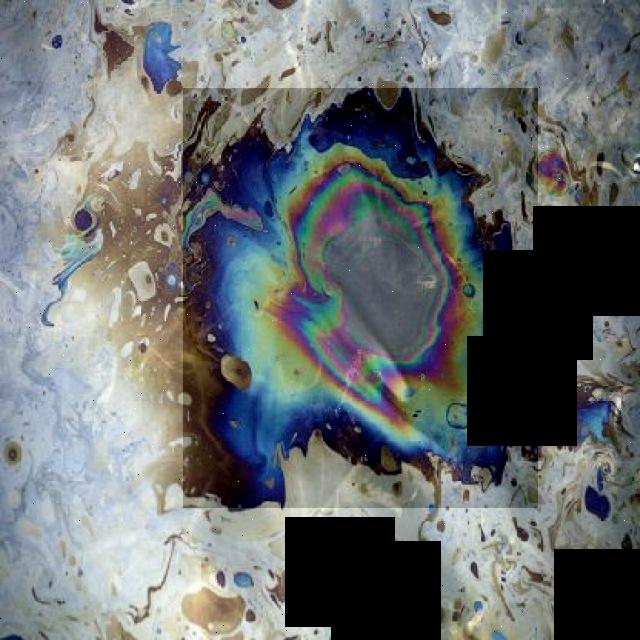oil spill: (183, 88, 538, 508)
